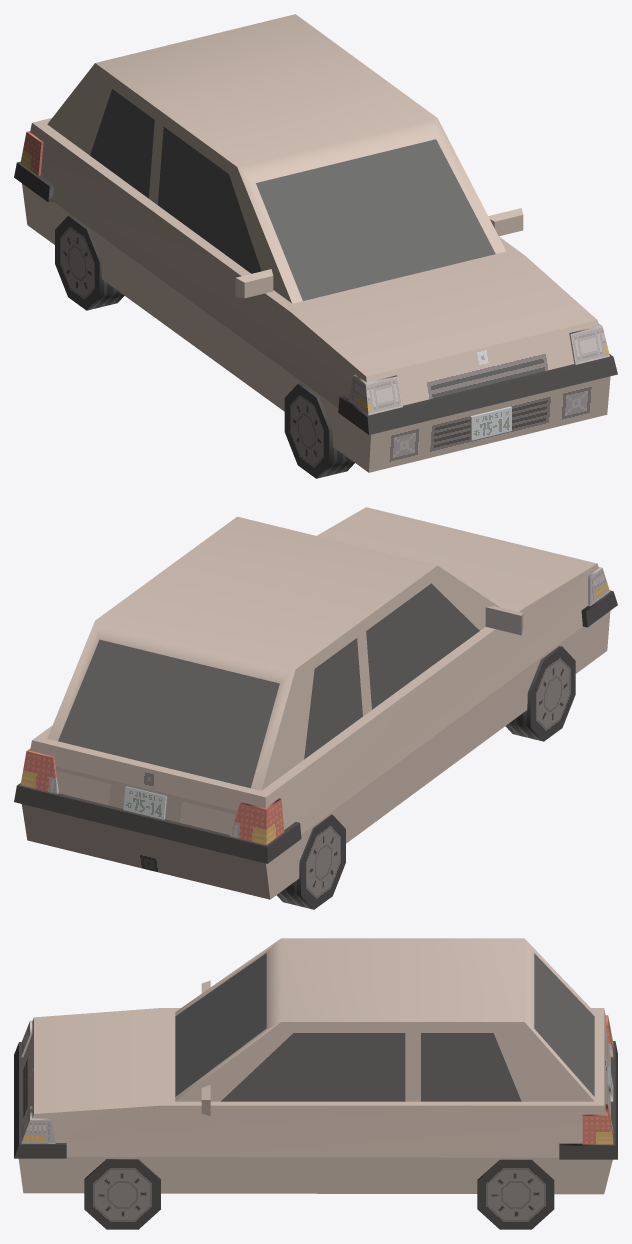
The model's file is 0092_Hatchback.glb.
3 renders of one model, top to bottom at view 1: azimuth 30°, elevation 25°; view 2: azimuth 150°, elevation 25°; view 3: azimuth 270°, elevation 25°, orthographic. The views are drawn at different scales.
Parts seen in each view (by area): view 1: part_0, part_1, part_2; view 2: part_0, part_1, part_2; view 3: part_0, part_2, part_1.
Boxes of the visible parts, box(x1,y1,x2,y2) form: part_0: box(14, 14, 617, 472); part_1: box(284, 383, 354, 478); part_2: box(55, 215, 124, 310); part_0: box(14, 507, 617, 899); part_1: box(505, 646, 575, 741); part_2: box(276, 814, 345, 909); part_0: box(14, 938, 617, 1194); part_2: box(477, 1159, 554, 1229); part_1: box(84, 1159, 160, 1229).
Size of the model in its own units: 1.83 by 1.42 by 3.92.
Materials: 3 (3 with a texture image).
